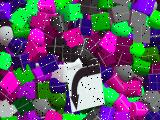Left: (66, 63, 105, 112)
